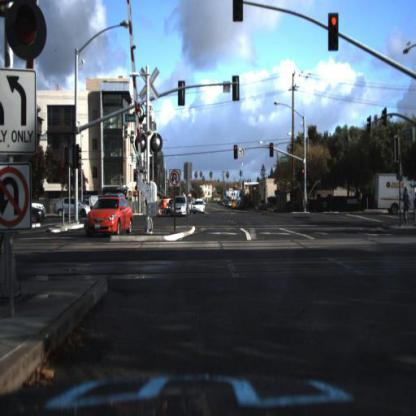biker: (397, 185, 410, 227)
car: (83, 196, 133, 237), (169, 195, 191, 221), (191, 200, 207, 216), (192, 199, 206, 217), (32, 198, 46, 208), (33, 209, 45, 220)
pedestrian: (400, 178, 412, 233), (355, 184, 364, 216), (355, 190, 365, 214), (411, 184, 416, 219)
trafficLight: (232, 1, 244, 25), (233, 140, 239, 162)
trafficLight-Red: (329, 12, 340, 49), (269, 141, 276, 158), (300, 161, 306, 179), (302, 165, 307, 177)
truck: (375, 171, 416, 218)
